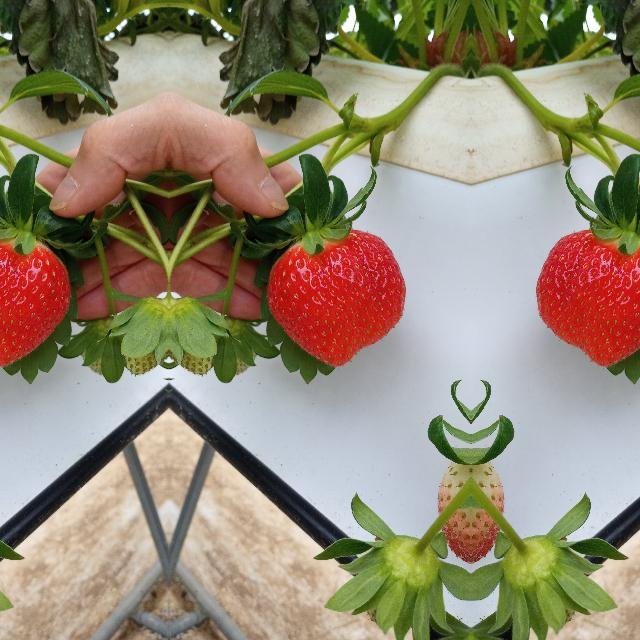Health_100: (266, 230, 406, 368), (534, 229, 640, 368), (0, 229, 70, 368)
